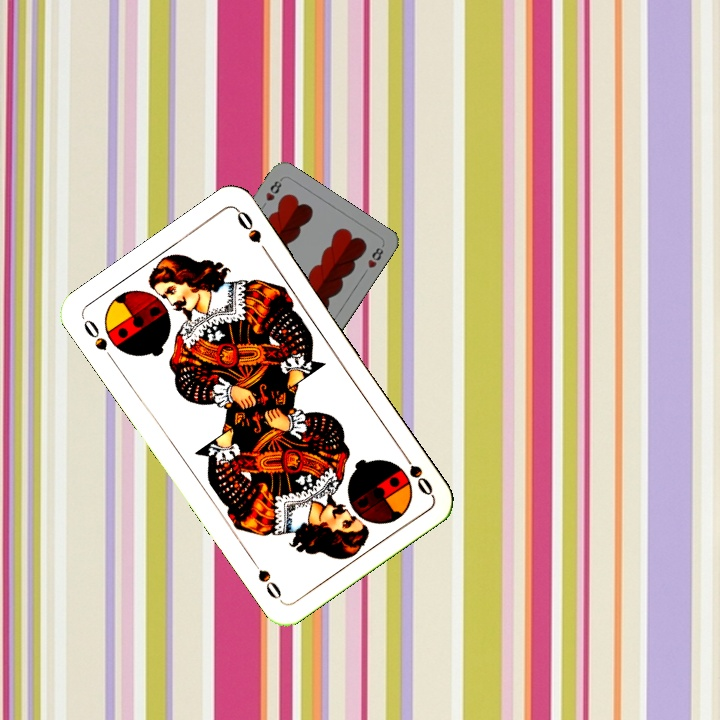H8: (262, 175, 285, 204)
SO: (396, 446, 436, 498), (79, 315, 118, 366)
